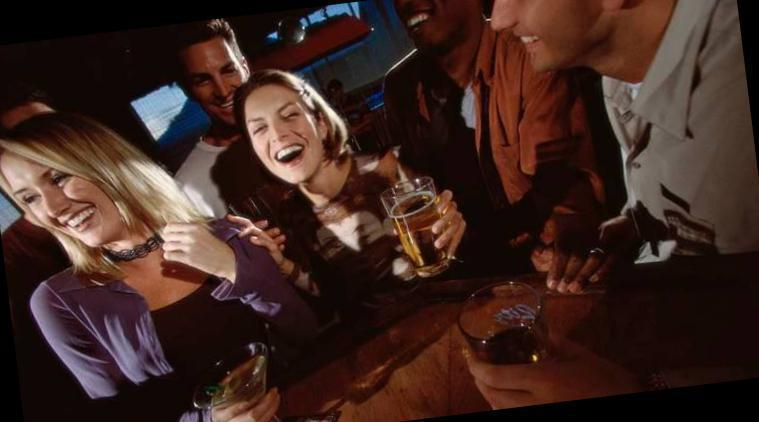Drunk: (5, 153, 112, 244), (241, 92, 317, 179), (185, 41, 242, 119)
